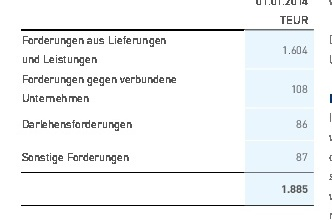table: (0, 0, 332, 220)
